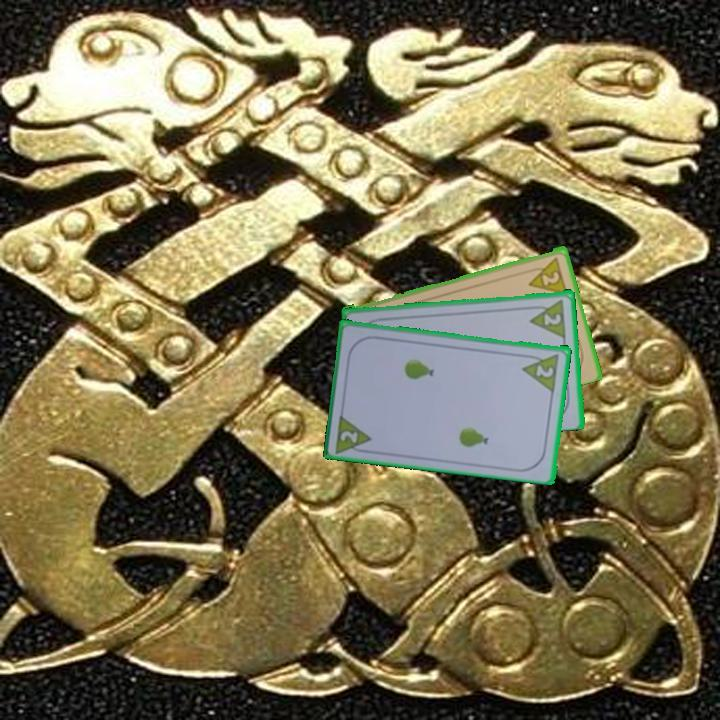2p: (523, 253, 570, 296), (332, 410, 375, 456), (519, 350, 562, 394), (541, 310, 564, 328)
